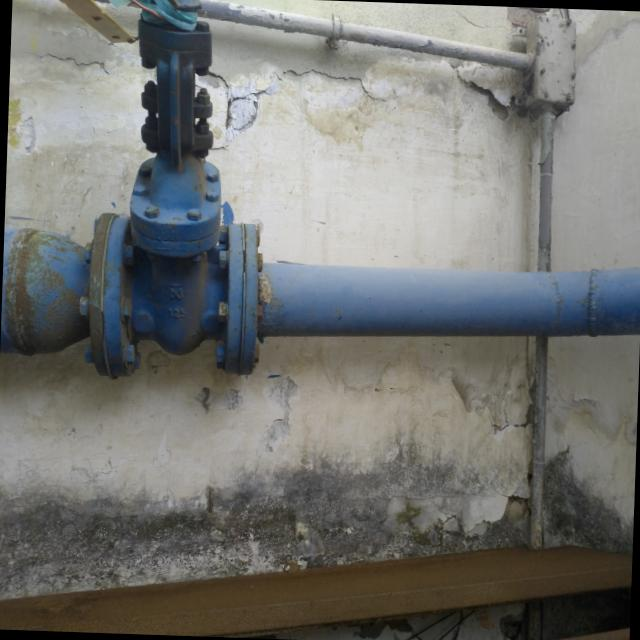gas: (9, 240, 640, 346)
